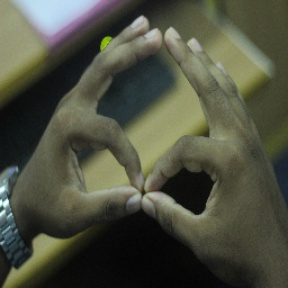B: (51, 96, 228, 244)
